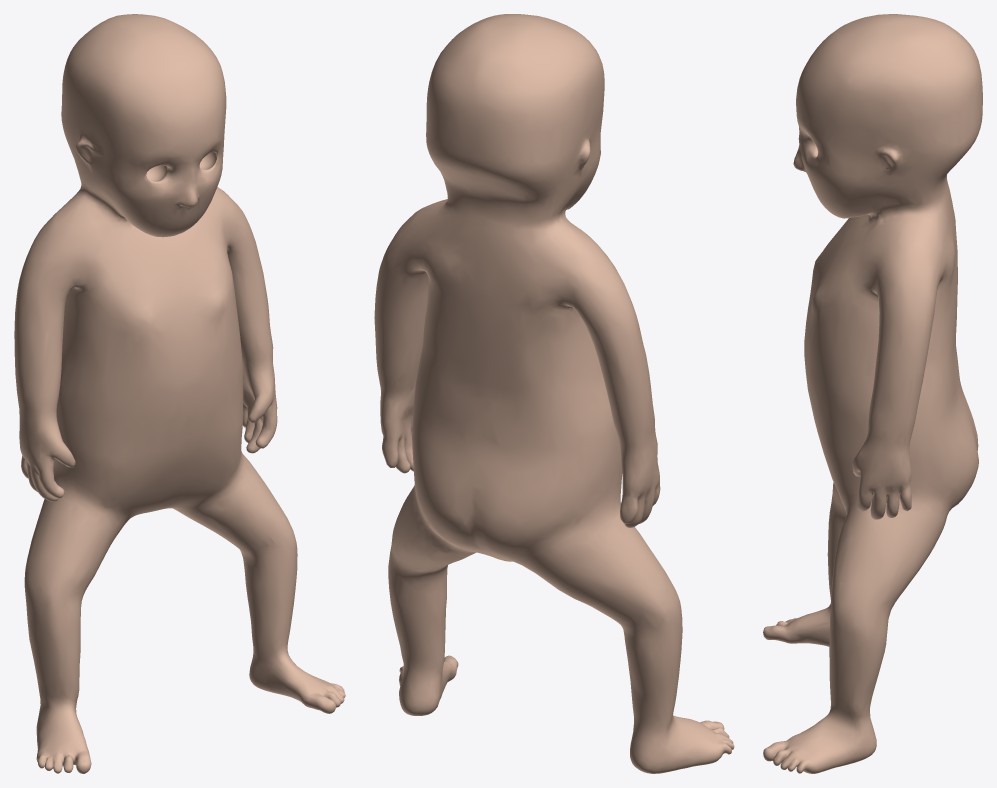
File: pediatric_neonate_female.surface.LOD1.glb
3 views of the same model, side by side, from view 1: azimuth 30°, elevation 25°; view 2: azimuth 150°, elevation 25°; view 3: azimuth 270°, elevation 25° (orthographic). The views are drawn at different scales.
Visible parts, largest first — view 1: PEDIATRIC.NEONATE.FEMALE.SURFACE.SKIN; view 2: PEDIATRIC.NEONATE.FEMALE.SURFACE.SKIN; view 3: PEDIATRIC.NEONATE.FEMALE.SURFACE.SKIN.
Boxes of the visible parts, x1,y1,x2,y2 form: PEDIATRIC.NEONATE.FEMALE.SURFACE.SKIN: (14, 14, 345, 773); PEDIATRIC.NEONATE.FEMALE.SURFACE.SKIN: (374, 14, 734, 773); PEDIATRIC.NEONATE.FEMALE.SURFACE.SKIN: (763, 14, 982, 773).
Bounding box in the file's own units: 0.2275 × 0.4817 × 0.1405.
